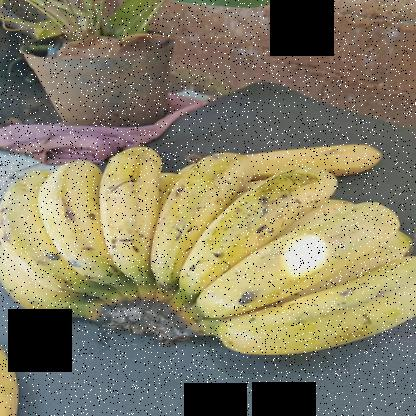freshripe: (249, 126, 396, 172)
ripe: (206, 209, 409, 314), (176, 169, 344, 284), (235, 261, 415, 364), (148, 143, 264, 278), (31, 144, 131, 275), (90, 134, 166, 284)
